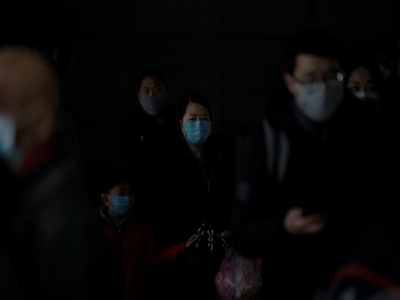with_mask: (293, 67, 343, 122), (182, 111, 212, 146), (138, 83, 167, 117), (110, 187, 132, 216)
